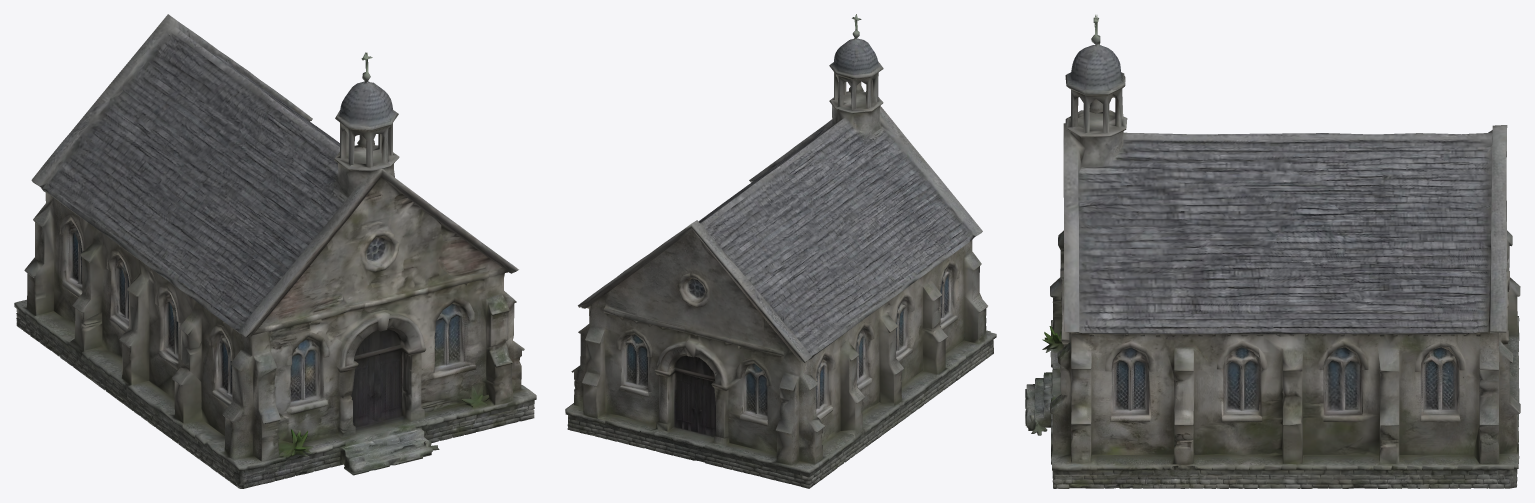
Rendered from eglise.glb.
3 renders of one model, left to right at view 1: azimuth 30°, elevation 25°; view 2: azimuth 150°, elevation 25°; view 3: azimuth 270°, elevation 25°, orthographic. The views are drawn at different scales.
Visible parts, largest first — view 1: tripo_node_2478aa17-7d5a-4066-9d53-3943b5c669e8; view 2: tripo_node_2478aa17-7d5a-4066-9d53-3943b5c669e8; view 3: tripo_node_2478aa17-7d5a-4066-9d53-3943b5c669e8.
Boxes of the visible parts, left/top/right/bottom form: tripo_node_2478aa17-7d5a-4066-9d53-3943b5c669e8: left=14, top=14, right=536, bottom=488; tripo_node_2478aa17-7d5a-4066-9d53-3943b5c669e8: left=565, top=14, right=996, bottom=488; tripo_node_2478aa17-7d5a-4066-9d53-3943b5c669e8: left=1025, top=14, right=1520, bottom=488.
Size of the model in its own units: 0.7067 by 0.8766 by 0.9832.
1 material, 1 textured.
